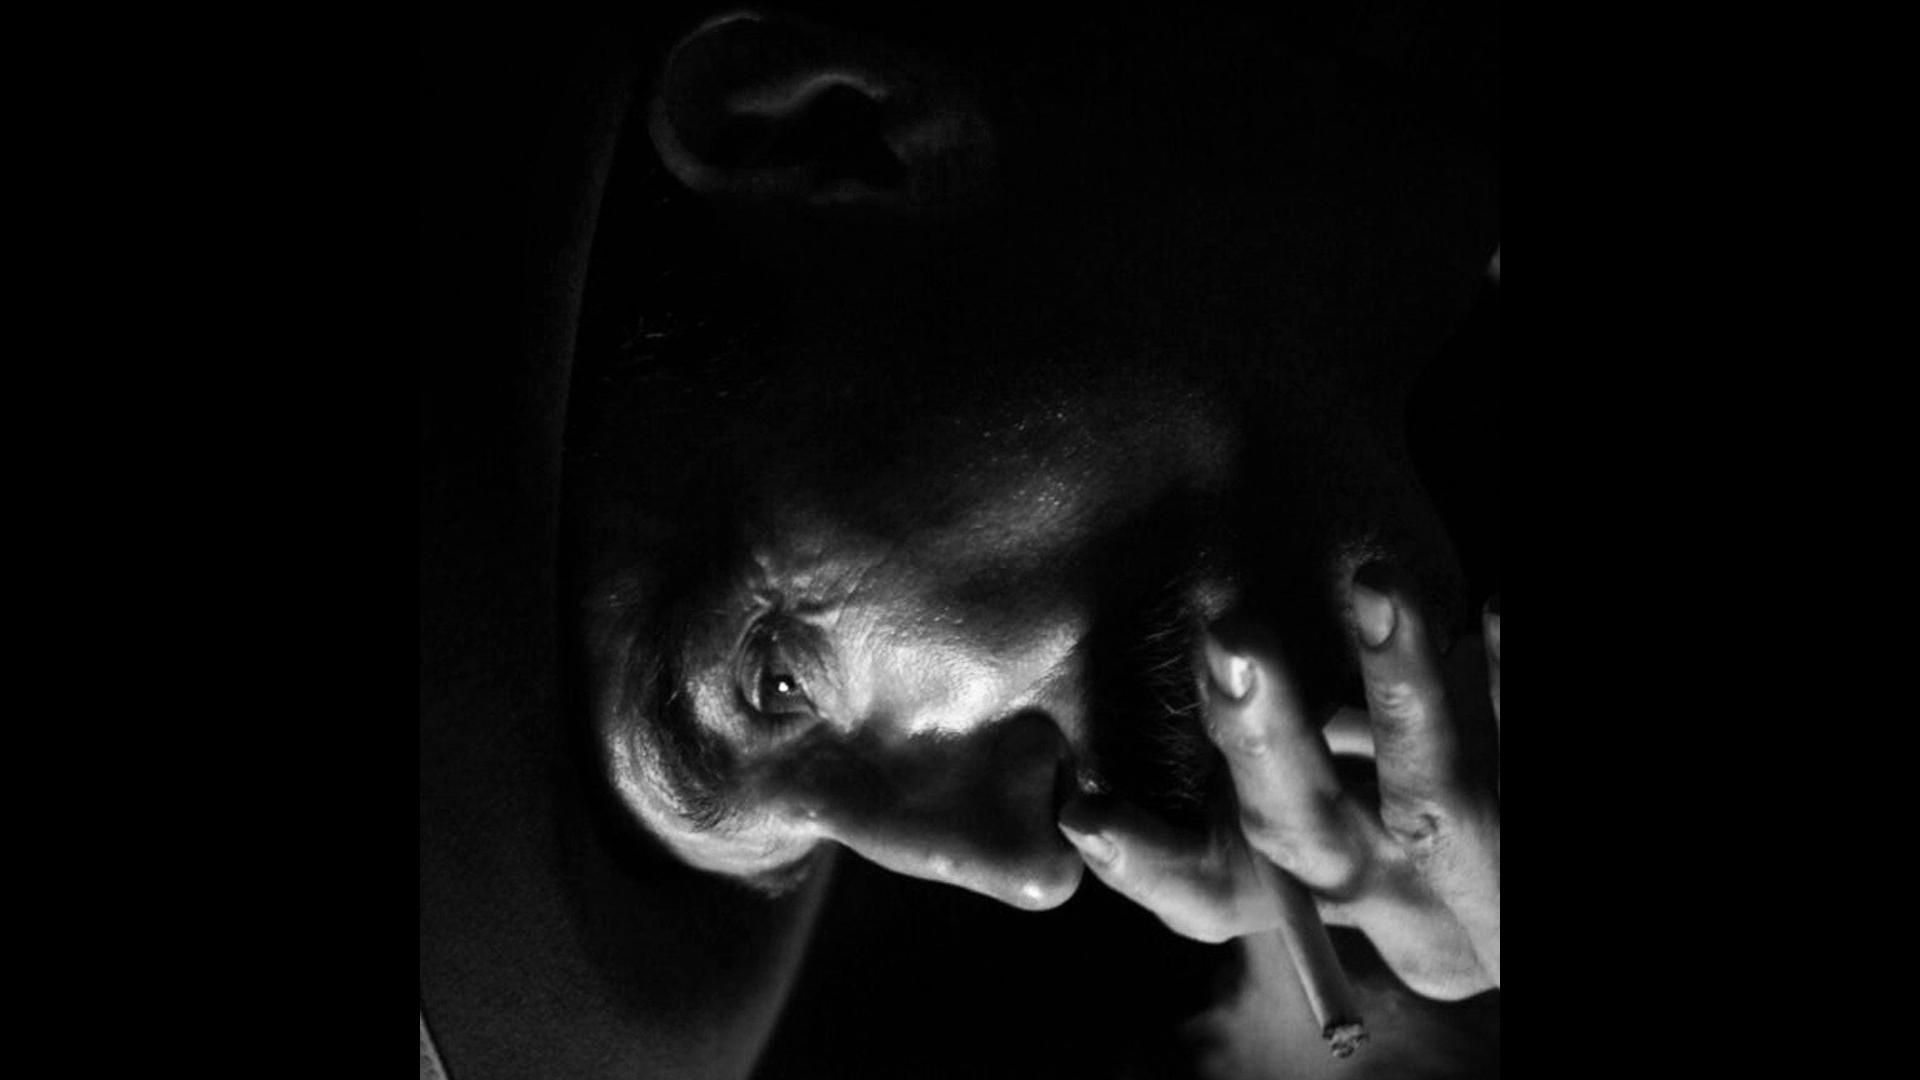Cigarette: (1254, 843, 1364, 1055)
